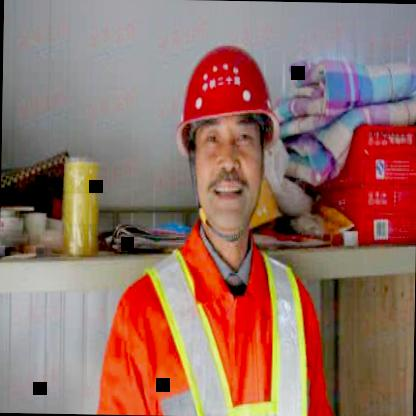helmet: (166, 33, 284, 246)
